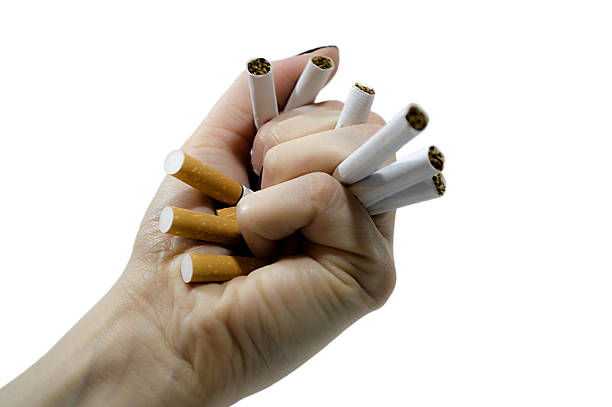cigarette: (331, 100, 430, 186), (350, 144, 446, 207), (157, 148, 254, 207), (367, 172, 448, 216), (158, 205, 238, 248), (285, 54, 335, 112), (248, 53, 280, 132), (180, 255, 260, 285), (334, 81, 377, 132), (215, 206, 238, 221)
